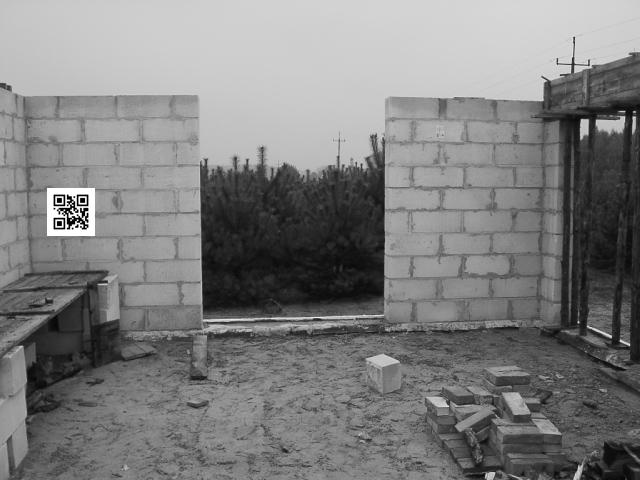qr_code: (47, 188, 95, 236)
